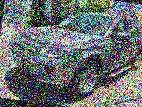car: (1, 0, 142, 107)
